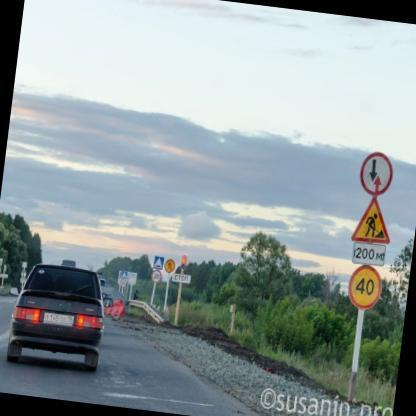road_sign: (352, 197, 389, 242), (348, 265, 381, 310), (360, 153, 393, 196), (353, 242, 386, 264), (152, 255, 165, 271), (171, 274, 191, 284), (152, 271, 162, 283)
